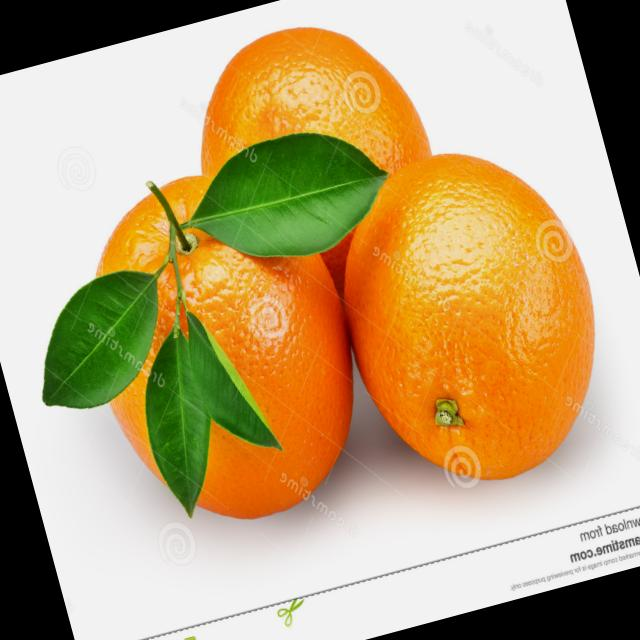orange: (38, 134, 410, 553), (305, 118, 639, 510), (179, 0, 485, 371)
